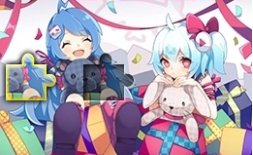gap: (83, 54, 135, 100)
